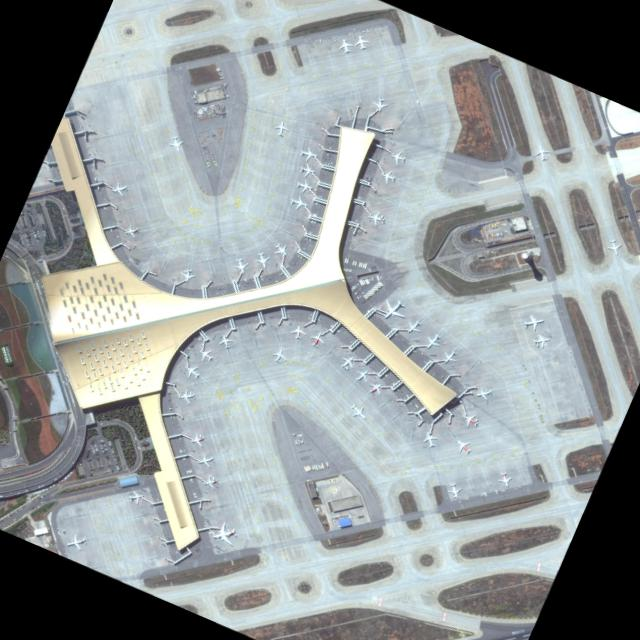plane: (211, 519, 239, 548), (378, 295, 406, 323), (451, 434, 474, 456), (460, 409, 483, 430), (348, 400, 369, 421), (182, 361, 204, 381), (196, 345, 218, 365), (66, 531, 88, 551), (423, 330, 442, 351), (523, 313, 544, 332), (404, 316, 423, 336), (604, 237, 624, 256), (231, 256, 251, 275), (353, 365, 372, 384), (368, 209, 387, 228), (271, 240, 291, 258), (289, 193, 309, 211), (441, 347, 459, 366), (338, 352, 357, 370), (421, 430, 440, 448), (253, 249, 272, 267), (389, 148, 408, 166), (196, 451, 216, 468), (180, 266, 198, 284), (380, 167, 398, 185), (366, 379, 385, 396), (111, 180, 130, 197), (475, 385, 495, 401), (217, 333, 235, 350), (533, 143, 550, 161), (168, 134, 186, 151), (178, 387, 197, 403), (309, 328, 325, 347), (271, 346, 288, 363), (446, 481, 463, 498), (189, 431, 207, 447), (531, 332, 549, 348), (295, 178, 312, 194), (300, 146, 318, 161), (354, 34, 370, 50), (497, 471, 514, 486), (298, 162, 315, 177), (373, 96, 388, 111), (127, 489, 143, 503), (123, 223, 139, 237), (292, 322, 305, 339), (274, 119, 287, 136), (338, 38, 353, 52), (203, 473, 218, 487)
